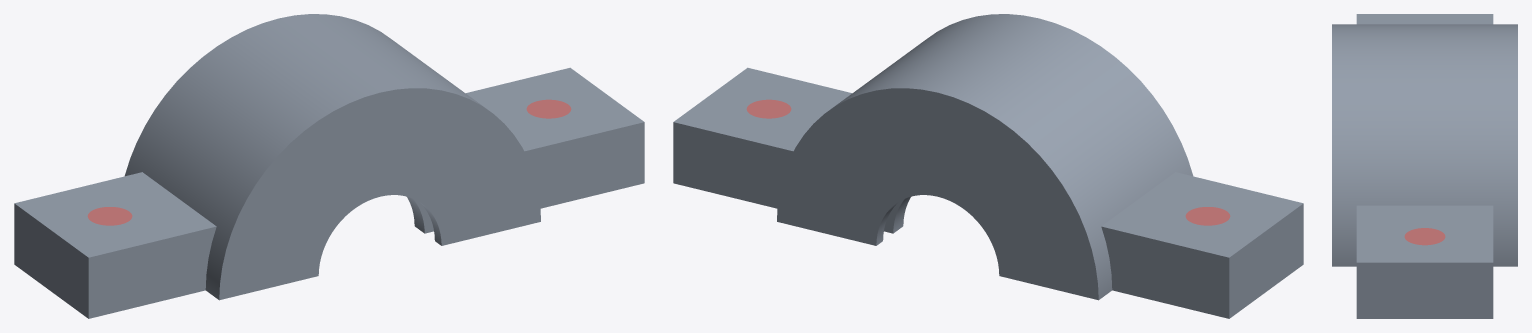
The model's file is step_09.glb.
3 views of the same model, side by side, from view 1: azimuth 30°, elevation 25°; view 2: azimuth 150°, elevation 25°; view 3: azimuth 270°, elevation 25° (orthographic). The views are drawn at different scales.
Visible parts, largest first — view 1: part__housing cap, removed__housing cap; view 2: part__housing cap, removed__housing cap; view 3: part__housing cap, removed__housing cap.
Boxes of the visible parts, x1,y1,x2,y2 form: part__housing cap: [14, 14, 644, 318]; removed__housing cap: [87, 99, 571, 225]; part__housing cap: [673, 14, 1303, 318]; removed__housing cap: [746, 99, 1230, 225]; part__housing cap: [1332, 14, 1517, 318]; removed__housing cap: [1404, 228, 1445, 245].
Bounding box in the file's own units: 190 × 55 × 60.
